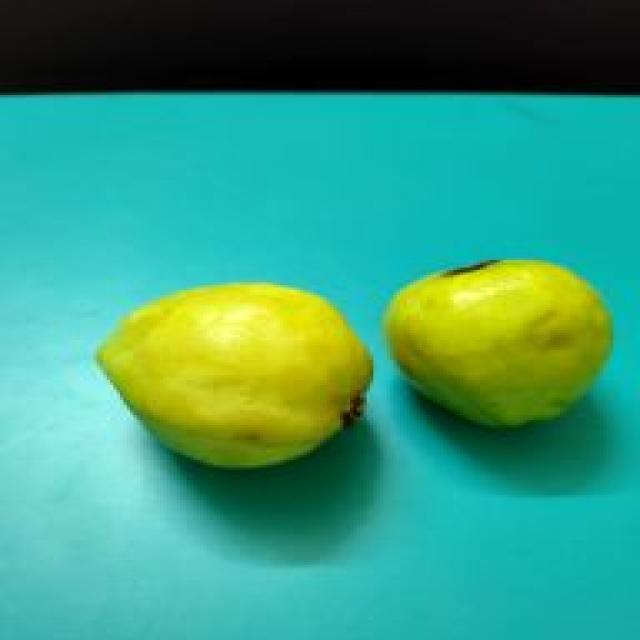Good_Guava: (93, 282, 373, 472), (383, 260, 613, 432)
